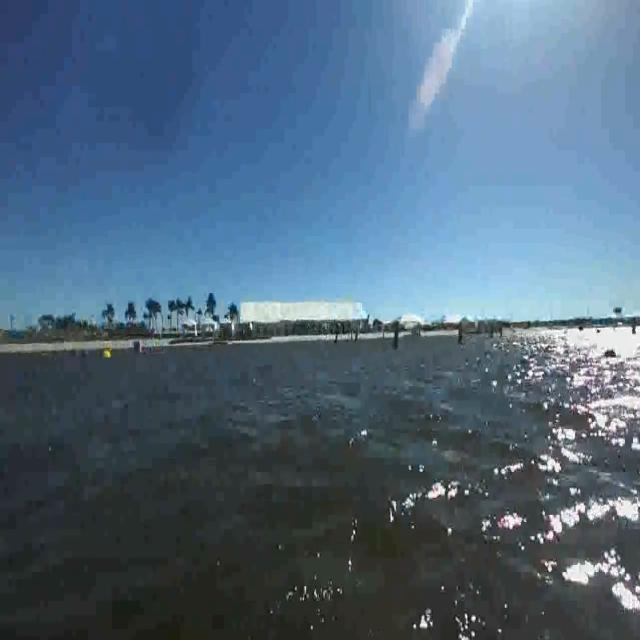yellow-buoy: (104, 348, 112, 361)
